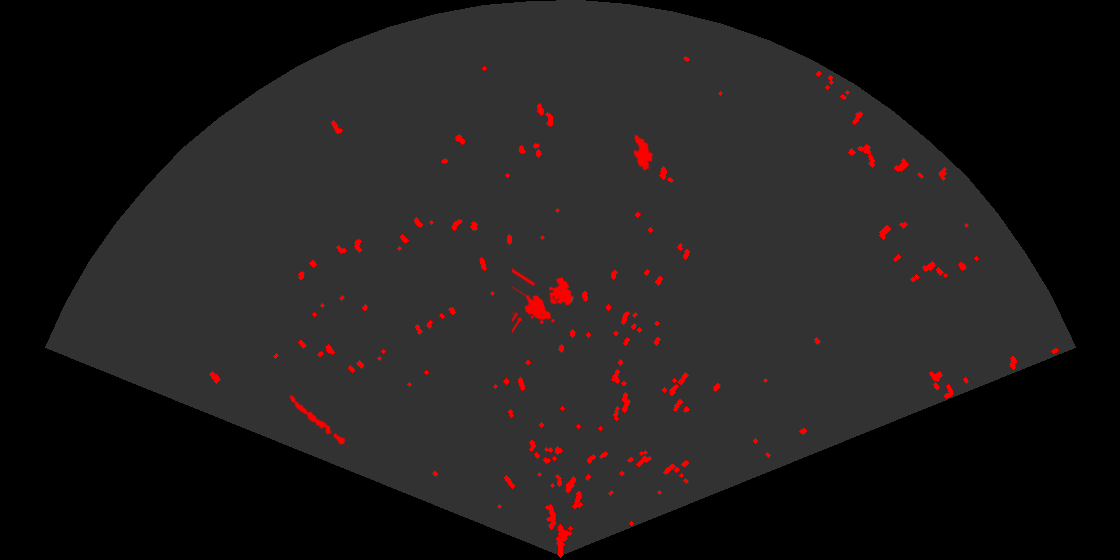AUV: (632, 133, 655, 172)
cage: (512, 267, 575, 335)
chain: (288, 393, 350, 450)
